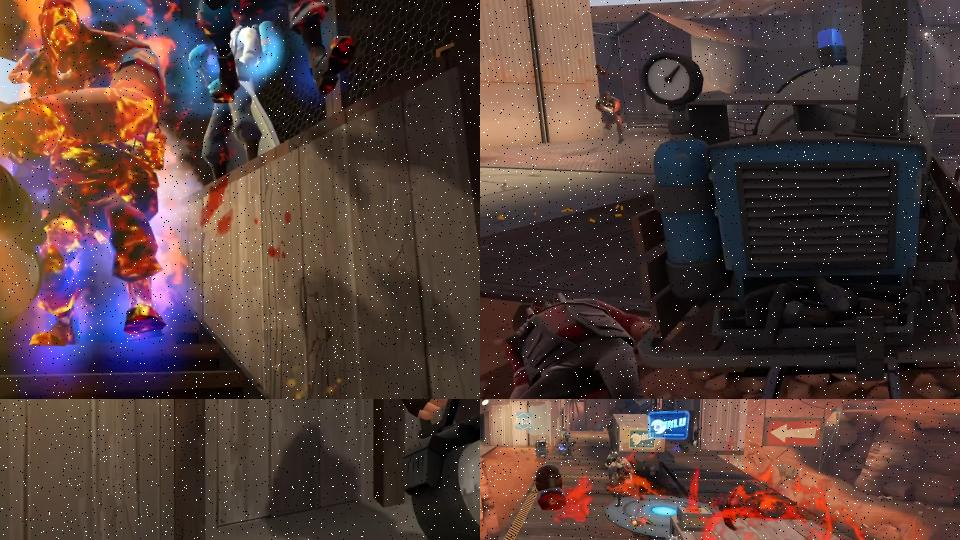Enemy: (0, 0, 167, 344), (480, 287, 661, 399), (188, 8, 280, 179), (379, 399, 480, 540), (593, 87, 631, 147), (615, 467, 645, 507), (608, 454, 635, 475), (605, 451, 619, 485)
